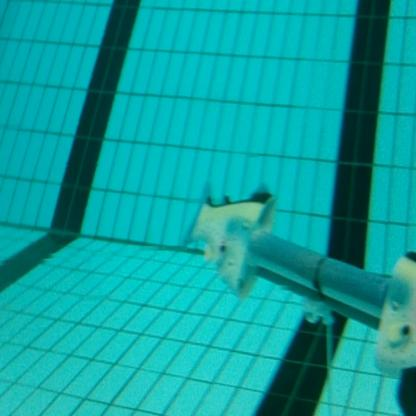tail: (181, 177, 283, 301)
